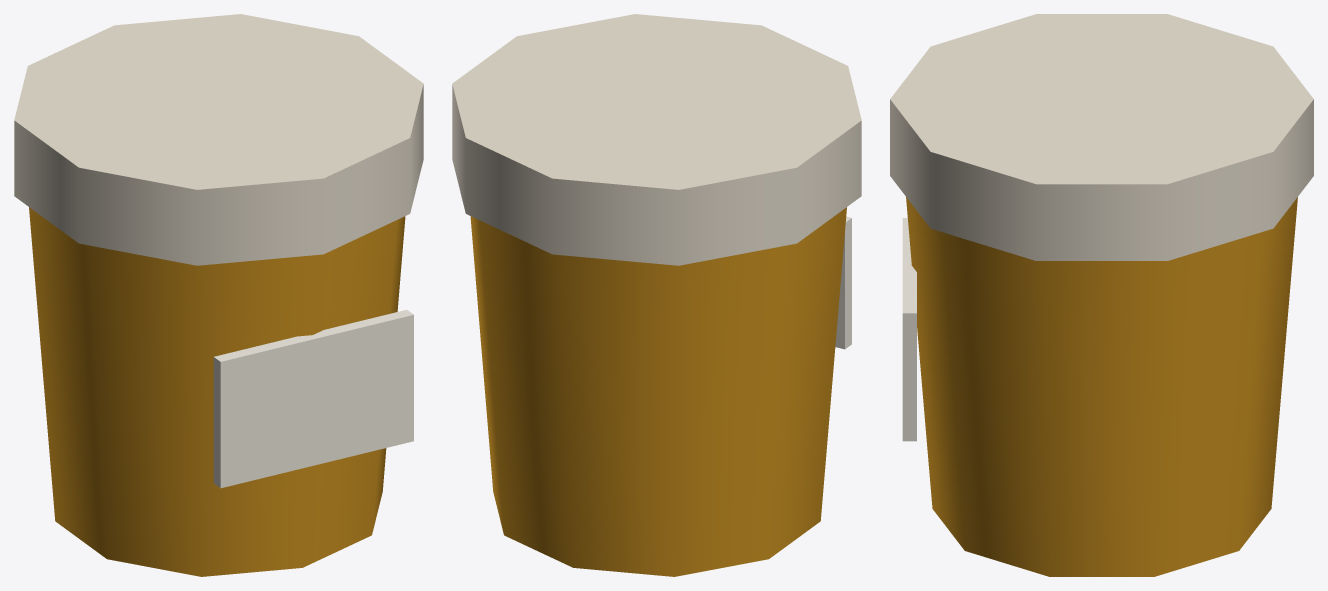
The model's file is good-honey.glb.
3 renders of one model, left to right at view 1: azimuth 30°, elevation 25°; view 2: azimuth 150°, elevation 25°; view 3: azimuth 270°, elevation 25°, orthographic.
Parts seen in each view (by area): view 1: #e8e0d0, #d89a20 rough 0.3, #f0ece0_noshadow; view 2: #d89a20 rough 0.3, #e8e0d0, #f0ece0_noshadow; view 3: #d89a20 rough 0.3, #e8e0d0, #f0ece0_noshadow.
Part boxes in pixels (x1,y1,x2,y2): #e8e0d0: (14,14,423,265); #d89a20 rough 0.3: (29,207,405,576); #f0ece0_noshadow: (213,309,413,488); #d89a20 rough 0.3: (470,207,846,576); #e8e0d0: (452,14,861,265); #f0ece0_noshadow: (835,216,851,349); #d89a20 rough 0.3: (906,197,1297,576); #e8e0d0: (890,14,1313,260); #f0ece0_noshadow: (902,218,916,441).
Bounding box in the file's own units: 0.1427 × 0.16 × 0.15.
